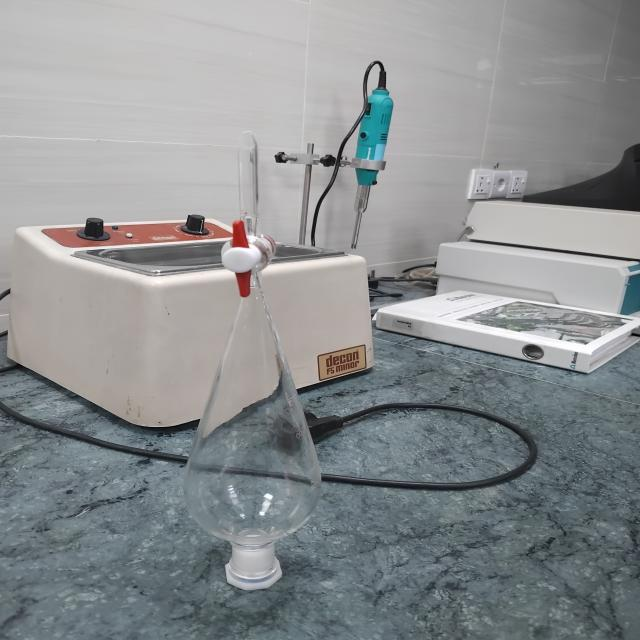Separating_Funnel: (176, 99, 366, 616)
